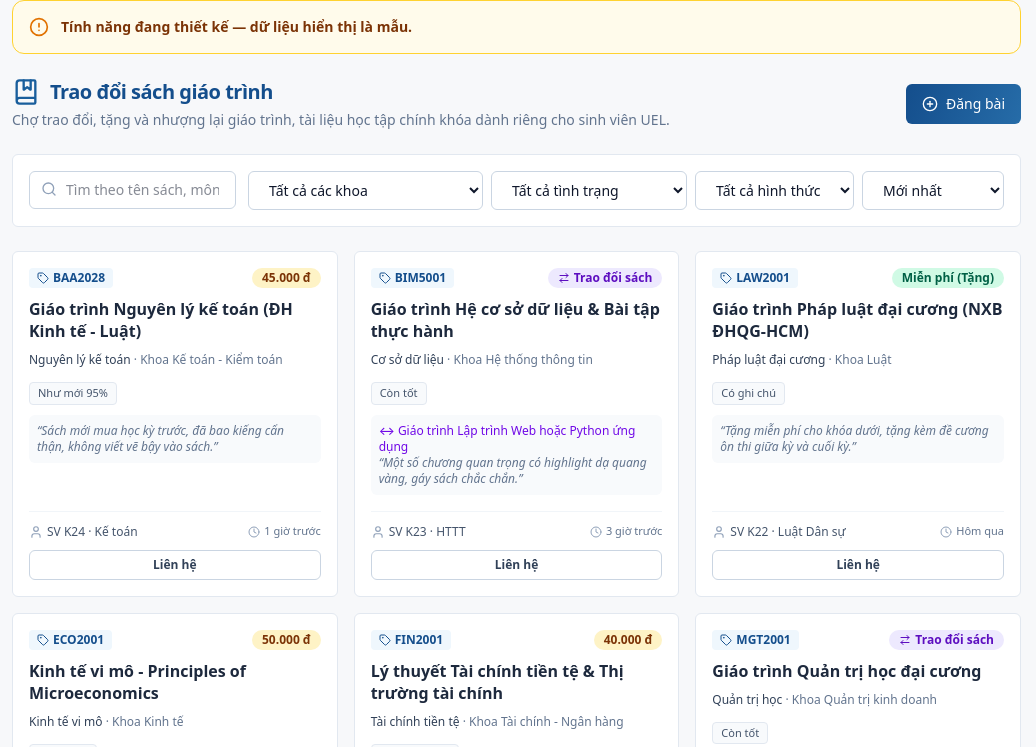
Test: W9: Trang Trao đổi sách (/books) › lọc theo hình thức trao đổi (tặng miễn phí / đổi / bán lại)
This screenshot has width=1036, height=747.
Filter giveaway
Step 1. Select "Tặng miễn phí" in the dropdown named "Hình thức" → (774, 190), box [695,171,854,210]
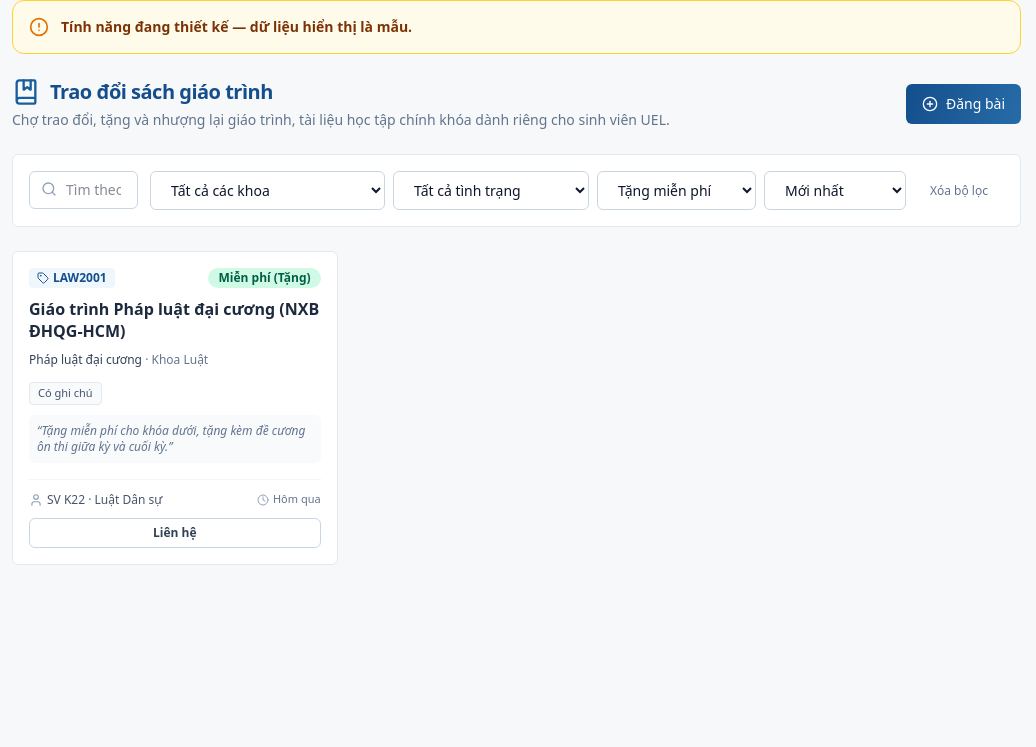
Expected: the heading "Giáo trình Pháp luật đại cương (NXB ĐHQG-HCM)" is shown, [29,298,321,342]
Expected: the heading "Kinh tế vi mô - Principles of Microeconomics" is gone
Filter resell
Step 2. Select "Bán lại giá SV" in the dropdown named "Hình thức" → (676, 190), box [597,171,756,210]
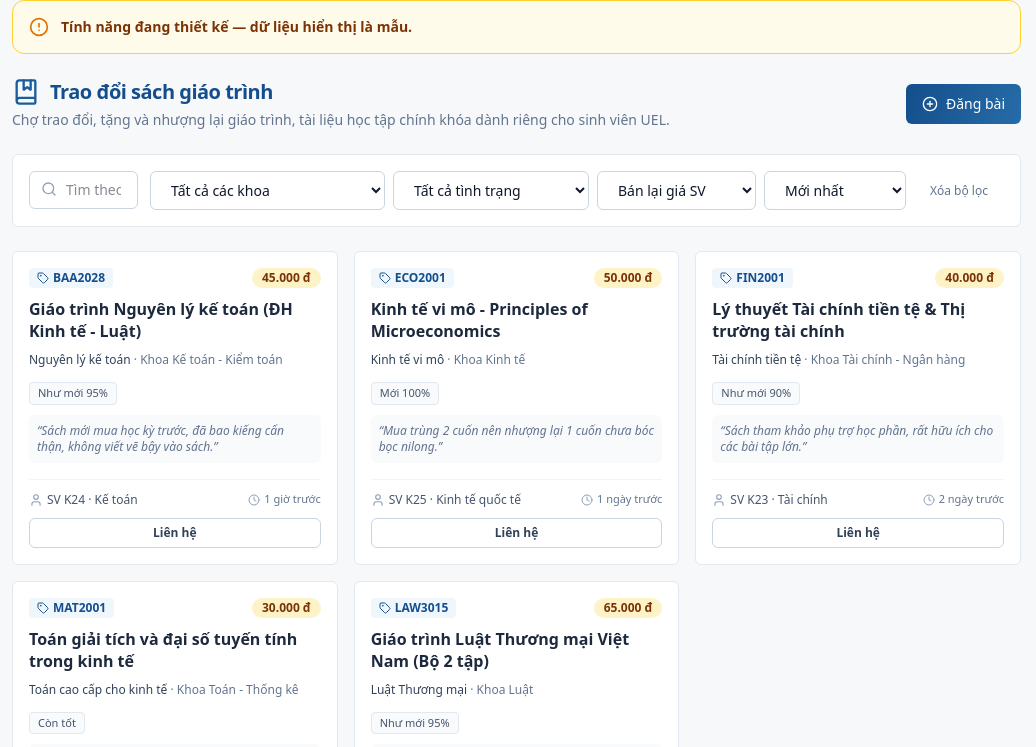
Expected: the heading "Kinh tế vi mô - Principles of Microeconomics" is shown, [371,298,588,342]
Expected: the heading "Giáo trình Pháp luật đại cương (NXB ĐHQG-HCM)" is gone
